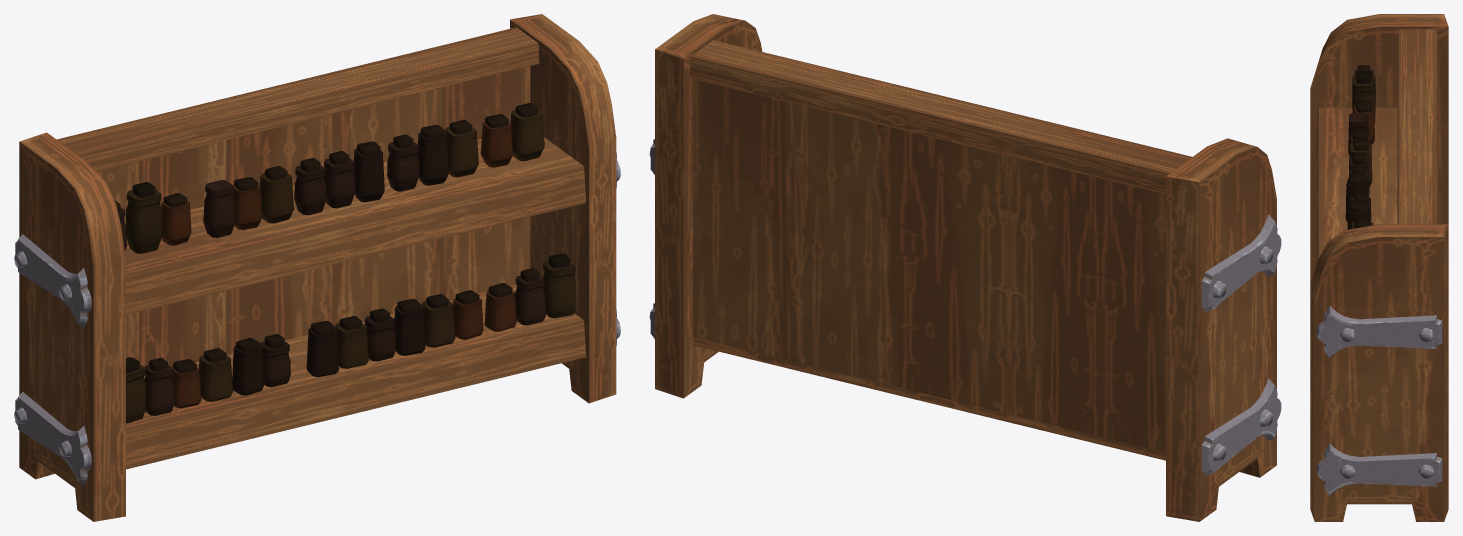
The model's file is Shelf_Small_Bottles.gltf.
The picture shows the model from 3 angles, left to right: view 1: azimuth 30°, elevation 25°; view 2: azimuth 150°, elevation 25°; view 3: azimuth 270°, elevation 25°; orthographic projection. The views are drawn at different scales.
Visible parts, largest first — view 1: Shelf_Small_Bottles; view 2: Shelf_Small_Bottles; view 3: Shelf_Small_Bottles.
Part boxes in pixels (left/top/right/bottom): Shelf_Small_Bottles: left=14, top=14, right=620, bottom=521; Shelf_Small_Bottles: left=649, top=14, right=1281, bottom=521; Shelf_Small_Bottles: left=1310, top=14, right=1448, bottom=521.
Bounding box in the file's own units: 1.14 × 0.6474 × 0.2846.
Materials: 3 (3 with a texture image).
